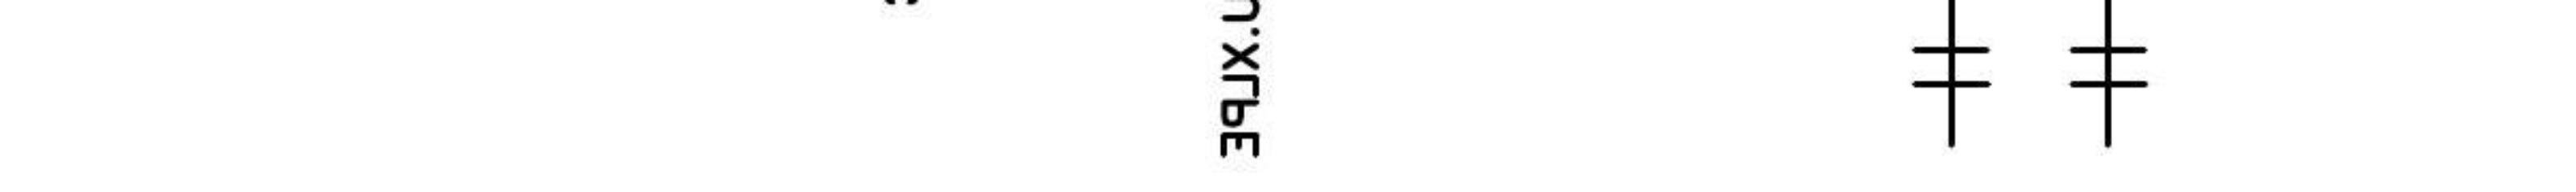115_buffer: (2068, 48, 2149, 89), (1912, 46, 1991, 87)
